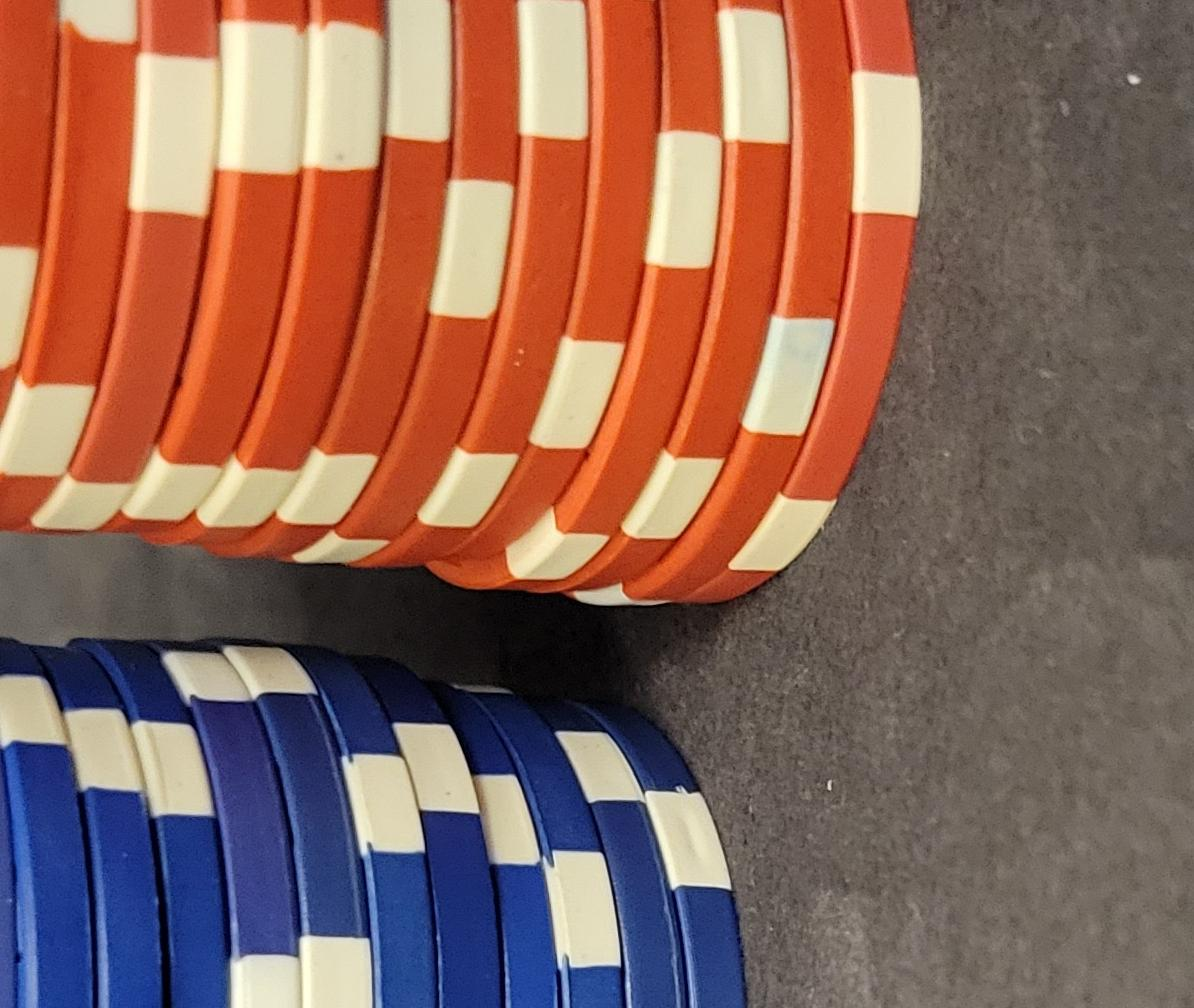Chip: (1, 197, 571, 1008)
